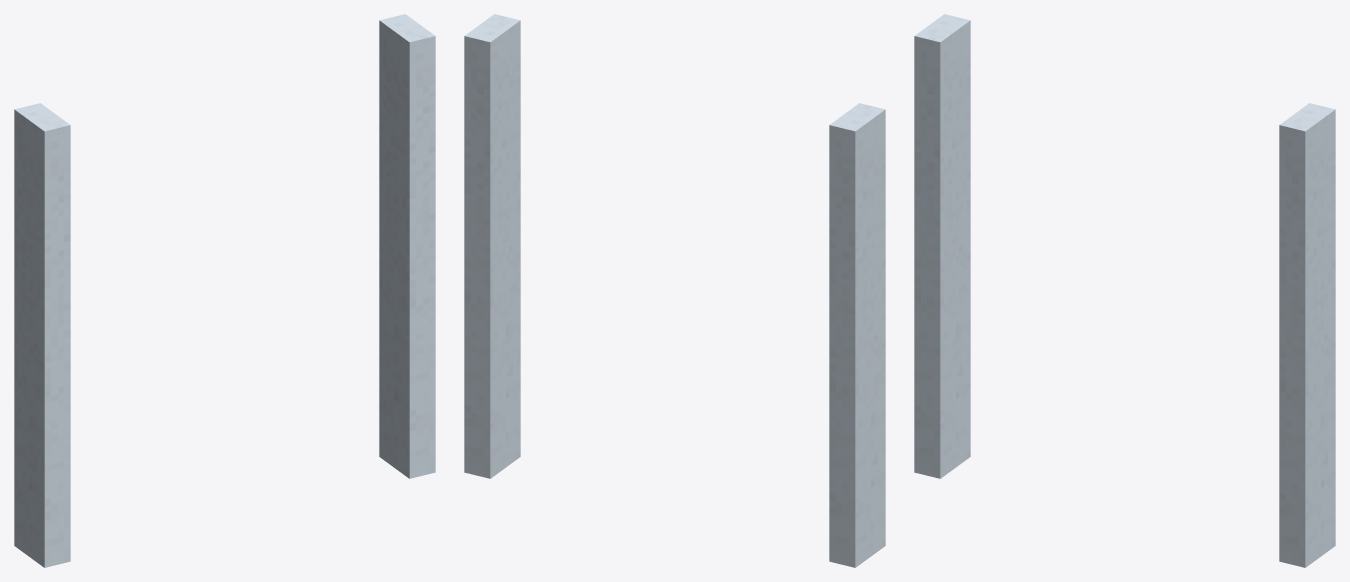
File: pillar_body_light.obj
The picture shows the model from 3 angles, left to right: view 1: azimuth 30°, elevation 25°; view 2: azimuth 150°, elevation 25°; view 3: azimuth 330°, elevation 25°; orthographic projection.
Parts seen in each view (by area): view 1: 1, 0; view 2: 1, 0; view 3: 1, 0.
Part boxes in pixels (left/top/right/bottom): 1: left=379, top=14, right=435, bottom=478; 0: left=14, top=103, right=70, bottom=567; 1: left=464, top=14, right=520, bottom=478; 0: left=829, top=103, right=885, bottom=567; 1: left=1279, top=103, right=1335, bottom=567; 0: left=914, top=14, right=970, bottom=478.
Size of the model in its own units: 15 by 16 by 2.
